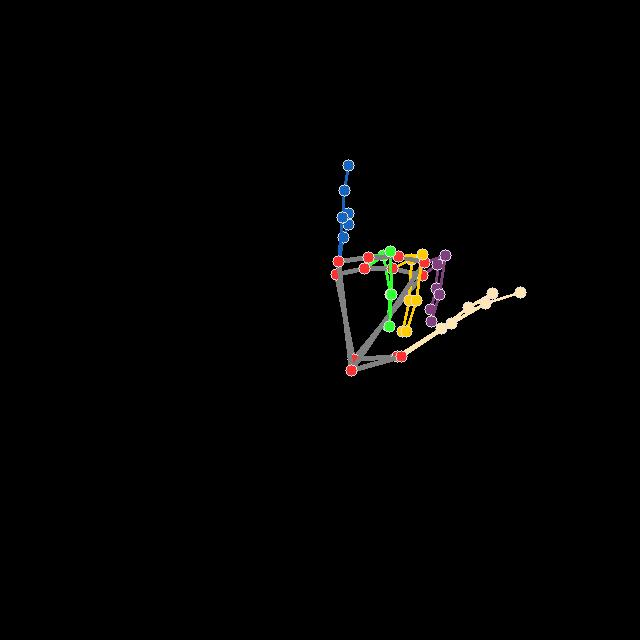skr: (328, 157, 527, 377)
